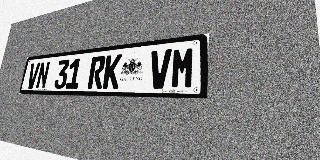1: (65, 58, 83, 89)
3: (54, 59, 70, 89)
K: (102, 54, 122, 89)
M: (170, 46, 196, 89)
N: (35, 61, 50, 89)
R: (87, 55, 106, 89)
V: (148, 49, 172, 89), (26, 62, 40, 89)
